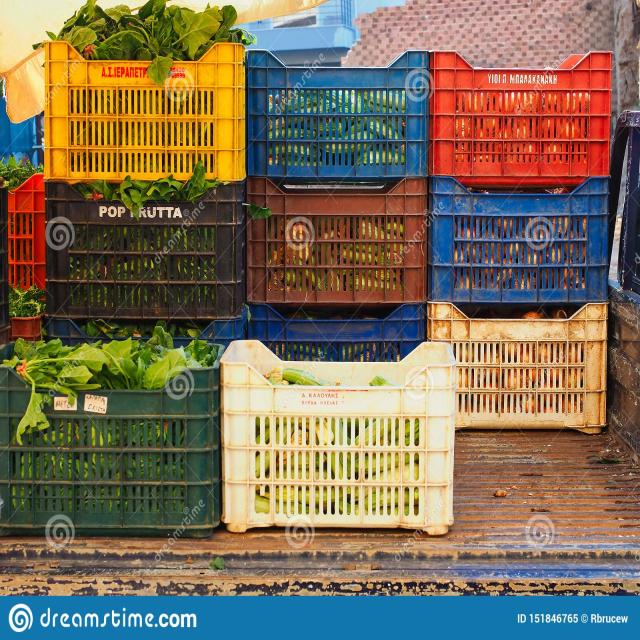basket: (220, 340, 457, 535), (0, 354, 228, 548), (43, 38, 246, 183), (44, 181, 246, 319), (430, 50, 613, 184), (246, 49, 431, 181), (427, 301, 609, 434), (246, 177, 428, 306), (428, 176, 610, 304), (248, 303, 426, 362), (7, 173, 45, 290), (195, 304, 259, 356)
